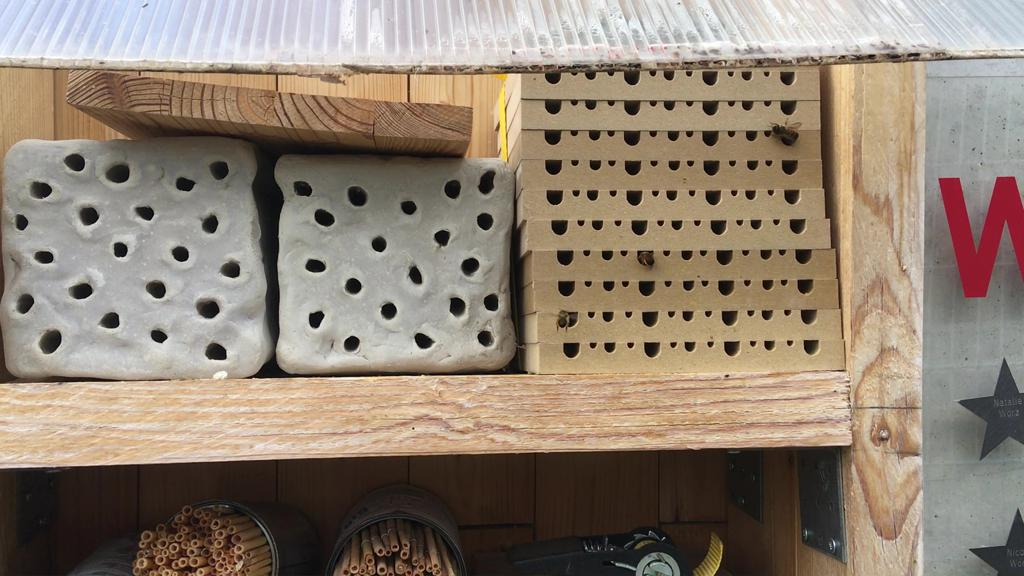bee: (634, 247, 665, 274)
